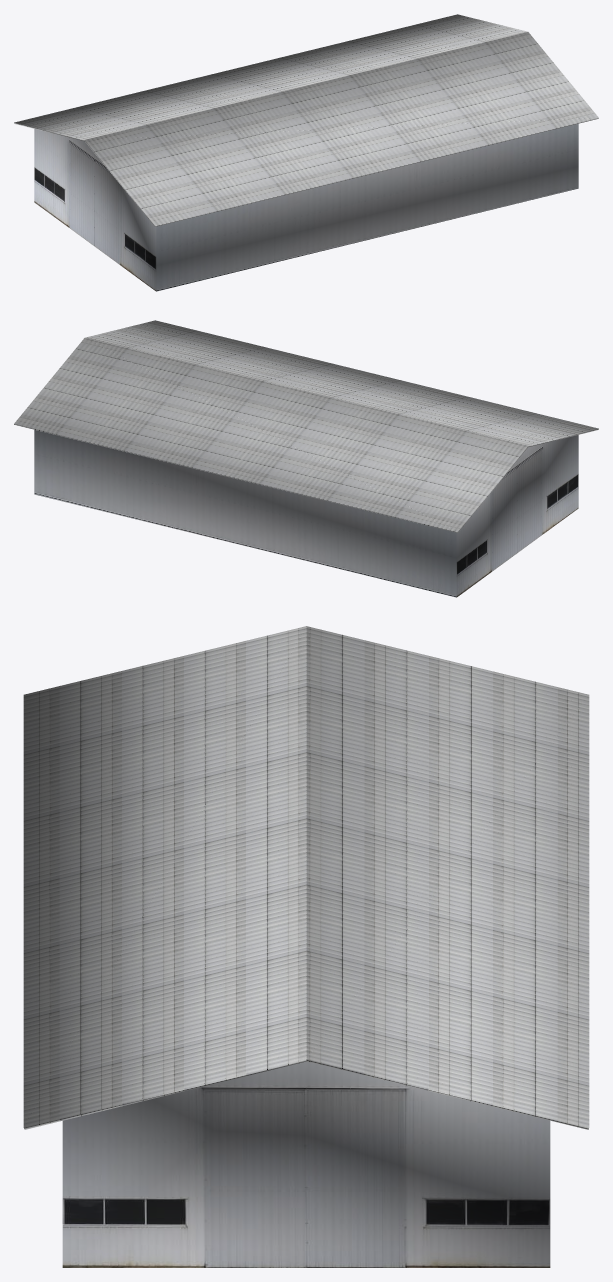
File: ангар2 (3).fbx
The picture shows the model from 3 angles, top to bottom: view 1: azimuth 30°, elevation 25°; view 2: azimuth 150°, elevation 25°; view 3: azimuth 270°, elevation 25°; orthographic projection. The views are drawn at different scales.
Parts seen in each view (by area): view 1: Плоскость.002; view 2: Плоскость.002; view 3: Плоскость.002.
Boxes of the visible parts, <box> form: Плоскость.002: <box>14,14,598,291</box>; Плоскость.002: <box>14,320,598,597</box>; Плоскость.002: <box>23,626,589,1267</box>.
Size of the model in its own units: 4200 by 991 by 2318.
2 materials, 2 textured.
